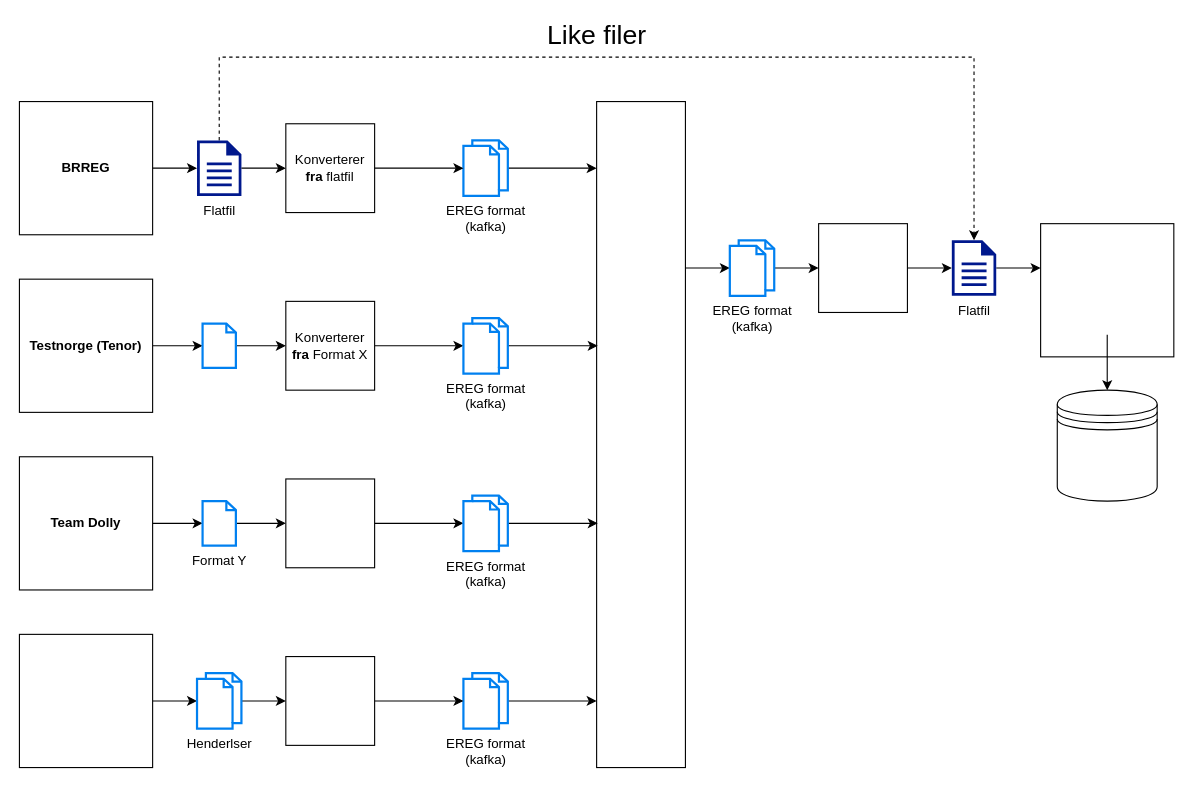
Image size: 1193x787. Some labels were removed from this diagram. The shapes that lost their labels are listed below. From the top down, each one's centre as x and y in pixels, then its label:
(862,267): Konverterer til flatfil
(1107,290): EREG
(218,345): Format X
(640,434): Kafka (kø)
(330,523): Konverterer f ra Format Y
(85,700): Nytt BRREG
(330,700): Konverterer fra Henderlser
